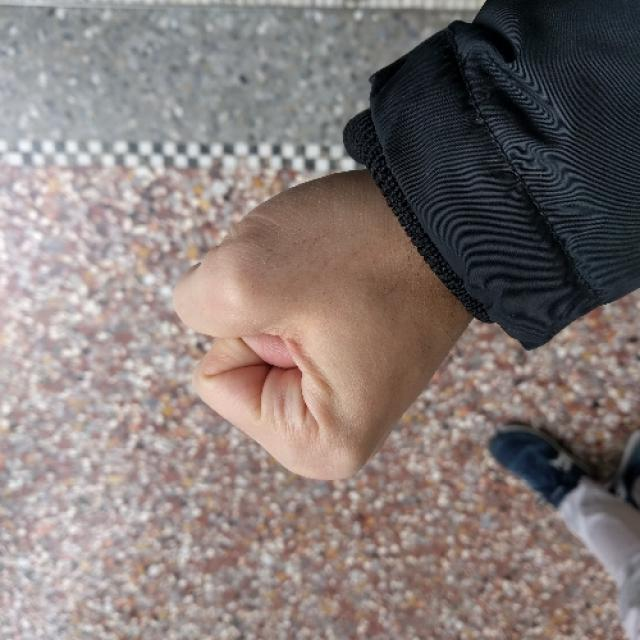rock: (176, 189, 418, 481)
